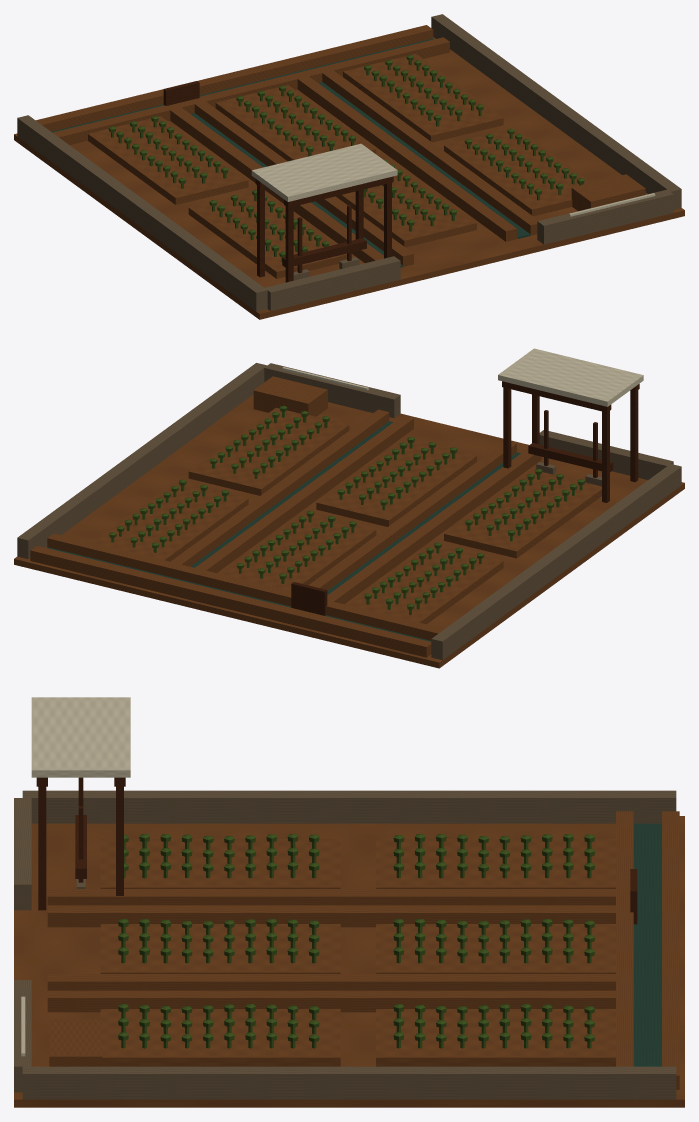
The model's file is Berber_Farm_Age2_untouched.fbx.
3 views of the same model, one above another, from view 1: azimuth 30°, elevation 25°; view 2: azimuth 150°, elevation 25°; view 3: azimuth 270°, elevation 25° (orthographic). The views are drawn at different scales.
Visible parts, largest first — view 1: flat_earth_plot, low_side_edging, low_side_edging.001, raised_bed_0_1, raised_bed_2_1, header_channel_bank.001, raised_bed_2_0, raised_bed_1_1, woven_tool_shade, branch_channel_bank.002, raised_bed_0_0, header_channel_bank (+16 smaller); view 2: flat_earth_plot, low_side_edging, low_side_edging.001, header_channel_bank.001, raised_bed_0_0, raised_bed_2_0, raised_bed_1_0, header_channel_bank, raised_bed_0_1, raised_bed_2_1, raised_bed_1_1, woven_tool_shade (+16 smaller); view 3: flat_earth_plot, low_side_edging.001, low_side_edging, raised_bed_2_1, raised_bed_2_0, branch_channel_bank.003, branch_channel_bank.001, raised_bed_1_0, raised_bed_0_1, raised_bed_1_1, branch_channel_bank.002, branch_channel_bank (+10 smaller).
Part boxes in pixels (<box>): flat_earth_plot: <box>14,37,684,319</box>; low_side_edging: <box>17,115,267,311</box>; low_side_edging.001: <box>431,14,681,209</box>; raised_bed_0_1: <box>88,116,248,204</box>; raised_bed_2_1: <box>343,54,503,142</box>; header_channel_bank.001: <box>36,25,433,131</box>; raised_bed_2_0: <box>444,127,591,216</box>; raised_bed_1_1: <box>215,85,376,161</box>; woven_tool_shade: <box>251,143,397,201</box>; branch_channel_bank.002: <box>297,76,516,241</box>; raised_bed_0_0: <box>188,192,346,278</box>; header_channel_bank: <box>53,37,449,145</box>; flat_earth_plot: <box>14,394,684,668</box>; low_side_edging: <box>431,464,681,660</box>; low_side_edging.001: <box>17,363,267,559</box>; header_channel_bank.001: <box>30,546,431,657</box>; raised_bed_0_0: <box>444,469,601,558</box>; raised_bed_2_0: <box>188,407,349,495</box>; raised_bed_1_0: <box>316,438,476,526</box>; header_channel_bank: <box>47,533,444,640</box>; raised_bed_0_1: <box>347,543,503,624</box>; raised_bed_2_1: <box>92,481,248,561</box>; raised_bed_1_1: <box>219,512,376,591</box>; woven_tool_shade: <box>498,348,643,406</box>; flat_earth_plot: <box>14,816,684,1107</box>; low_side_edging.001: <box>22,1066,676,1099</box>; low_side_edging: <box>22,790,676,823</box>; raised_bed_2_1: <box>376,1009,615,1066</box>; raised_bed_2_0: <box>100,1009,340,1066</box>; branch_channel_bank.003: <box>47,990,615,1012</box>; branch_channel_bank.001: <box>47,905,615,927</box>; raised_bed_1_0: <box>100,924,340,973</box>; raised_bed_0_1: <box>376,839,615,888</box>; raised_bed_1_1: <box>376,924,615,973</box>; branch_channel_bank.002: <box>47,974,615,990</box>; branch_channel_bank: <box>47,889,615,905</box>.
Bounding box in the file's own units: 380 × 93.75 × 380.
Materials: 6 (6 with a texture image).
